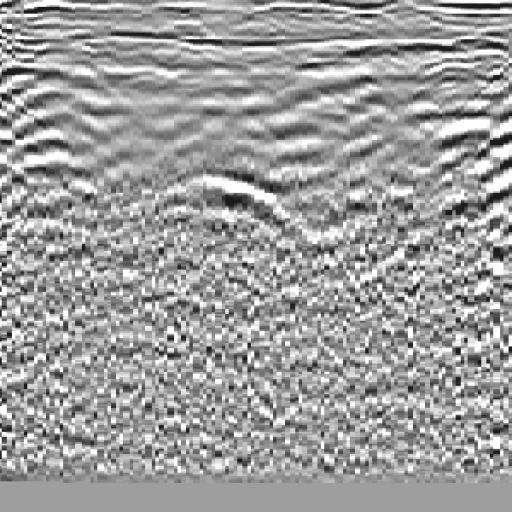metalic: (143, 148, 314, 279)
nonmetalic: (427, 37, 512, 271)
